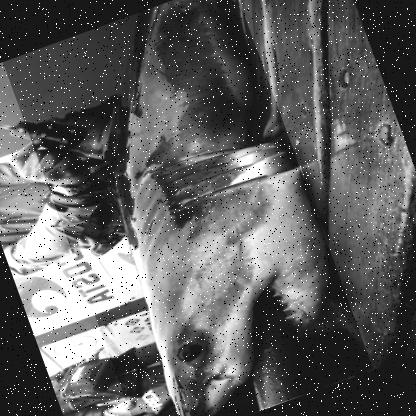white-shark: (1, 0, 374, 415)
